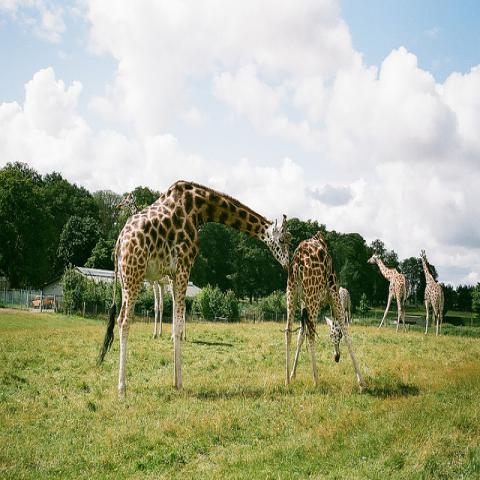car: (32, 295, 54, 309)
